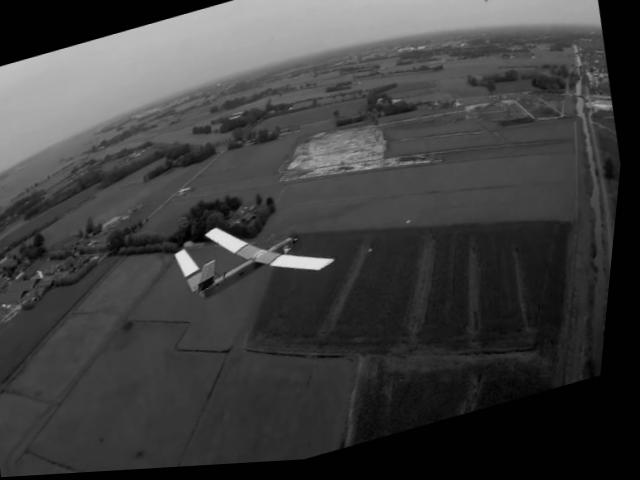hedef: (136, 178, 364, 353)
